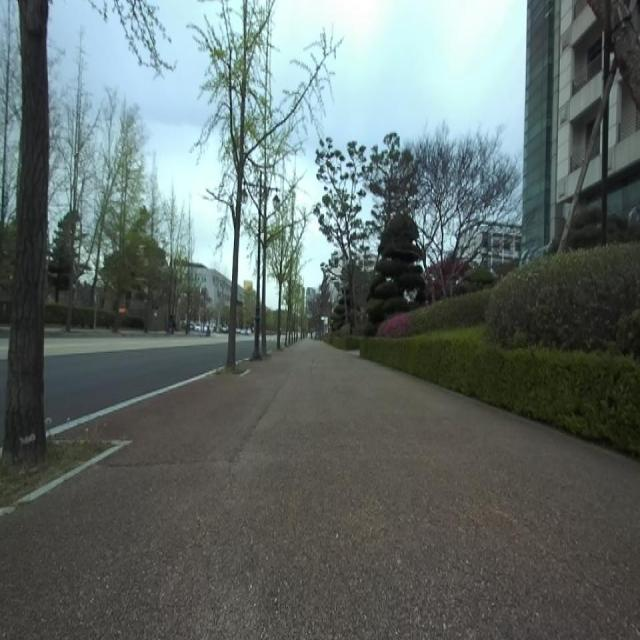sidewalk: (0, 340, 640, 639), (46, 370, 217, 436)
